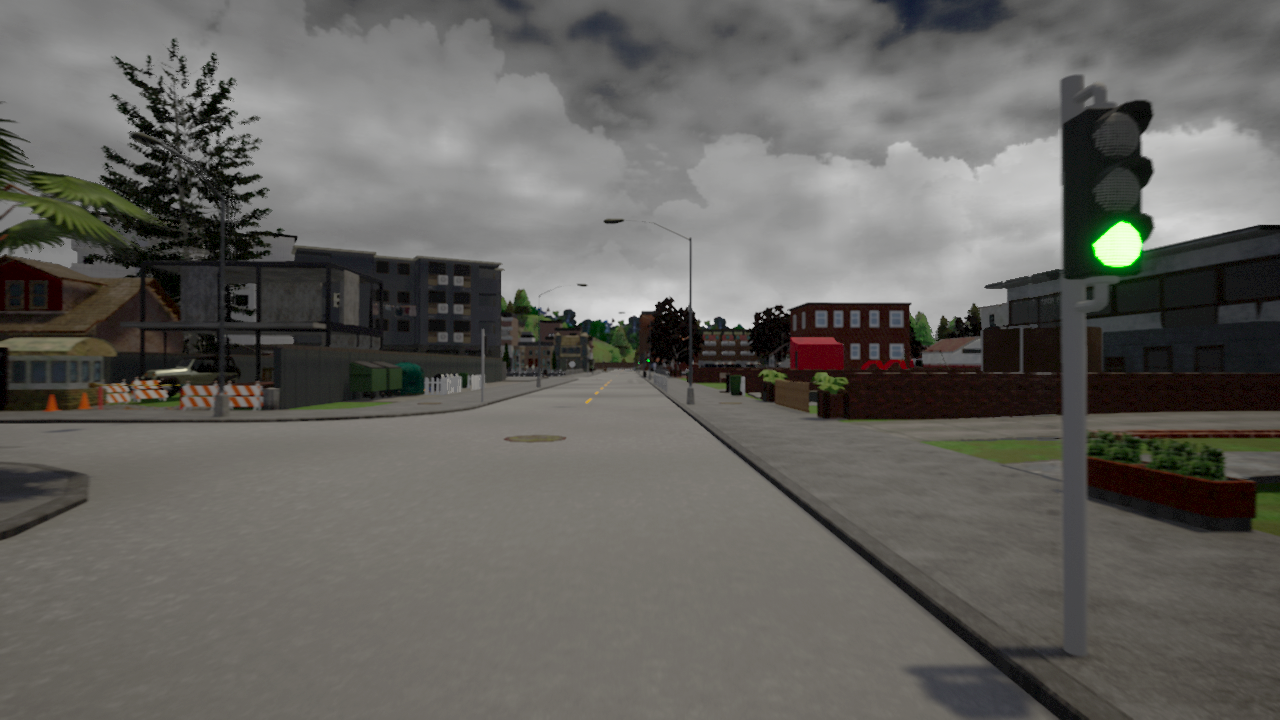green: (1067, 100, 1154, 275)
